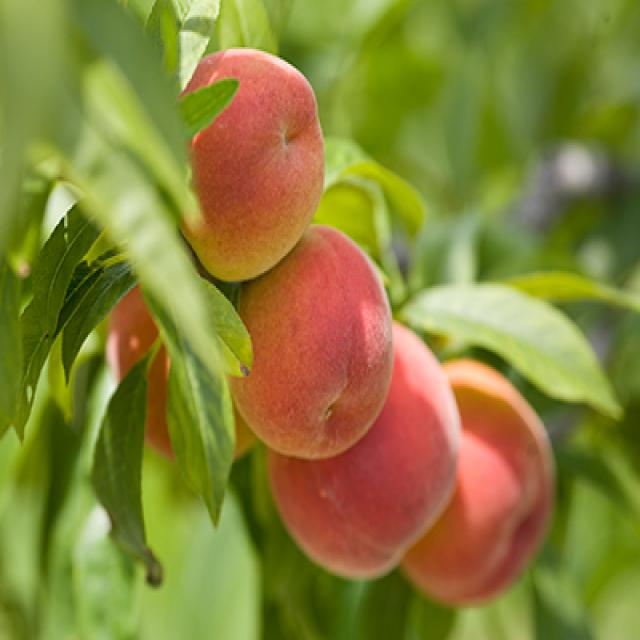peach: (0, 6, 562, 625)
